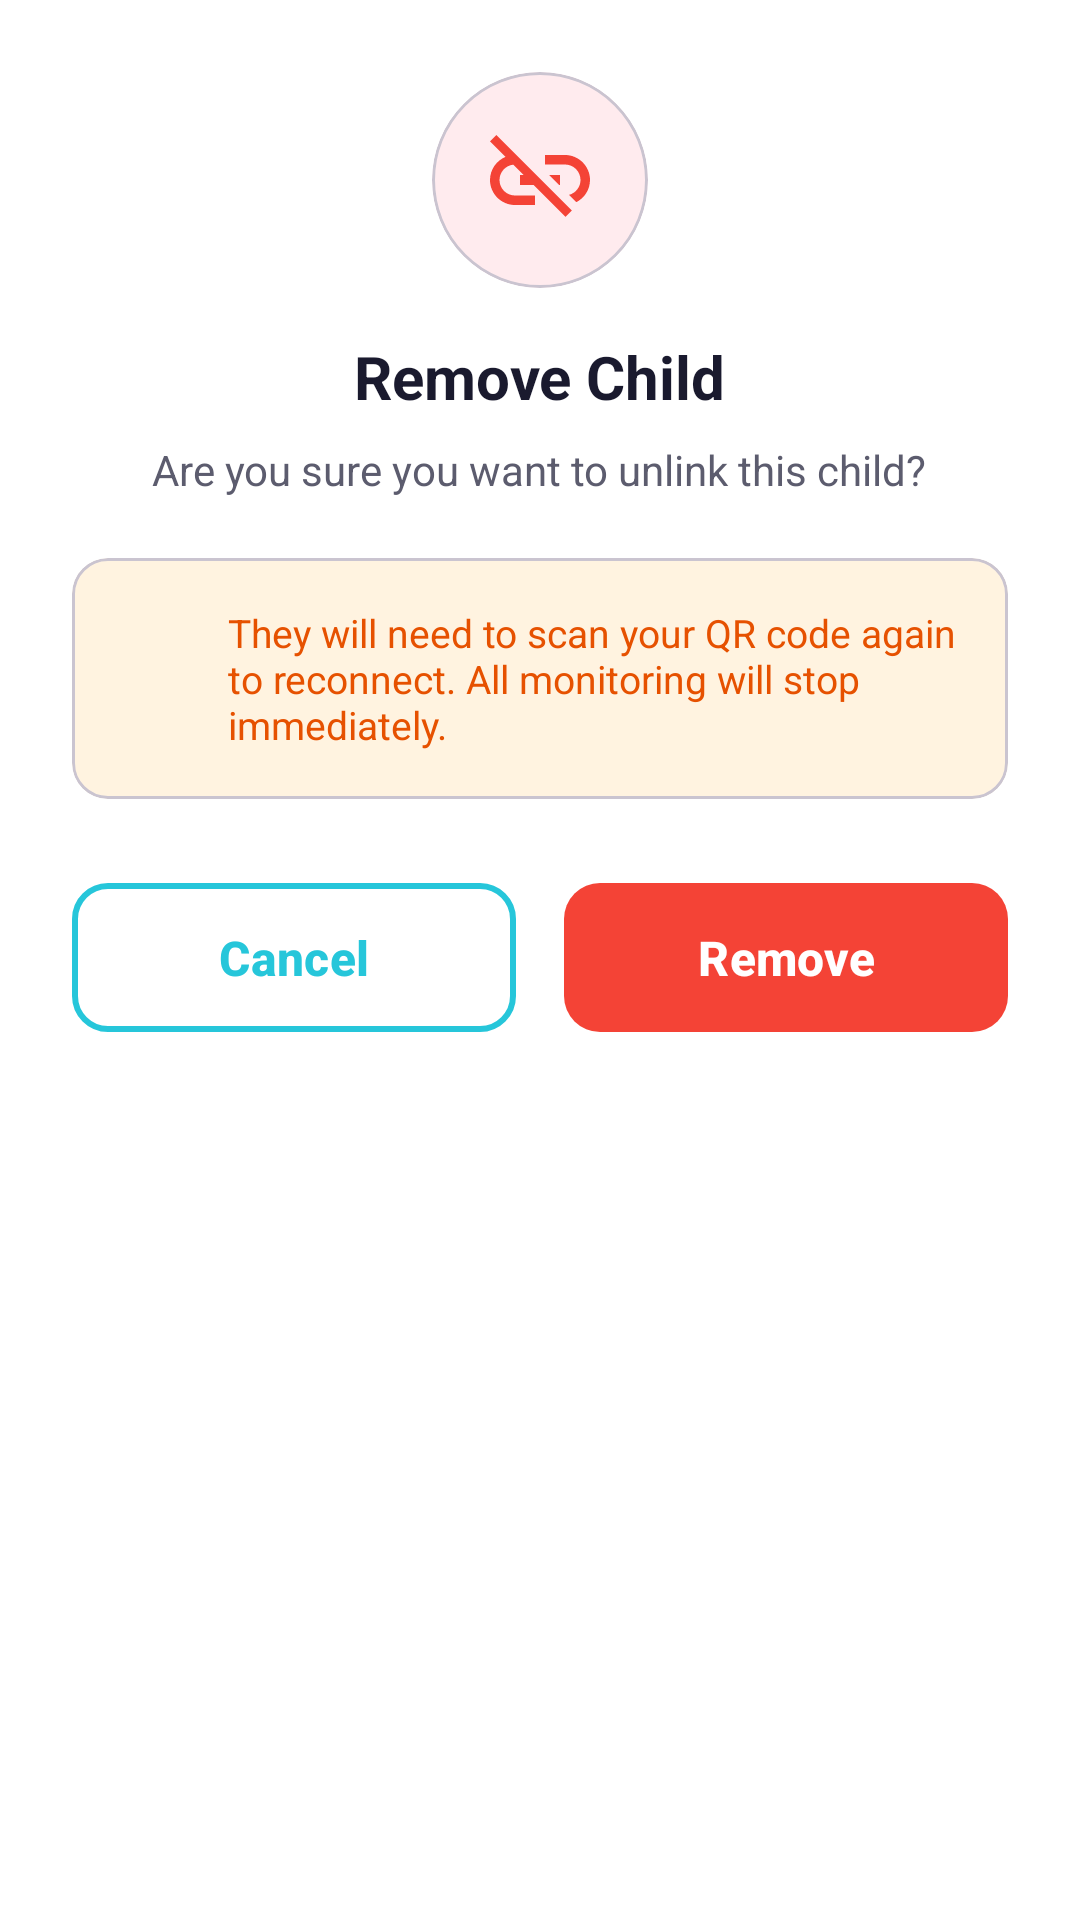

Where icons sit on this 1080x1920 app screen, as bbox(x1, y1, x2, y2):
link off: bbox(490, 135, 590, 217)
